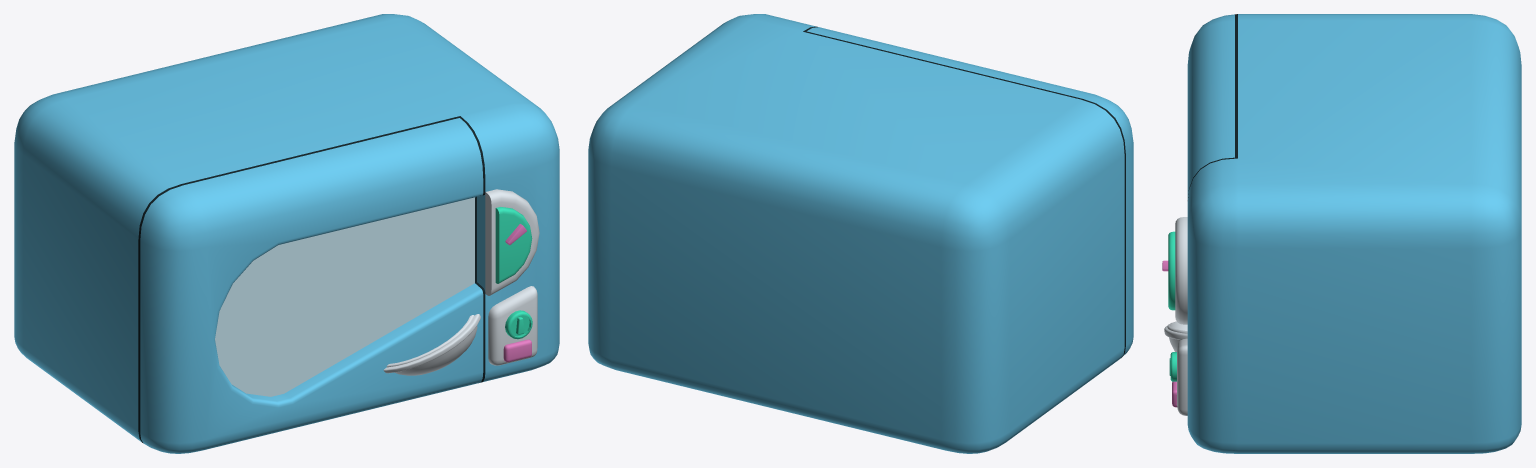
Rendered from Microwave_V2.fbx.
3 views of the same model, side by side, from view 1: azimuth 30°, elevation 25°; view 2: azimuth 150°, elevation 25°; view 3: azimuth 270°, elevation 25° (orthographic).
Visible parts, largest first — view 1: Microwave_V2; view 2: Microwave_V2; view 3: Microwave_V2.
Boxes of the visible parts, box(x1,y1,x2,y2) form: Microwave_V2: box(14, 14, 559, 453); Microwave_V2: box(588, 14, 1133, 453); Microwave_V2: box(1162, 14, 1521, 453).
Bounding box in the file's own units: 96 × 56.32 × 71.63.
